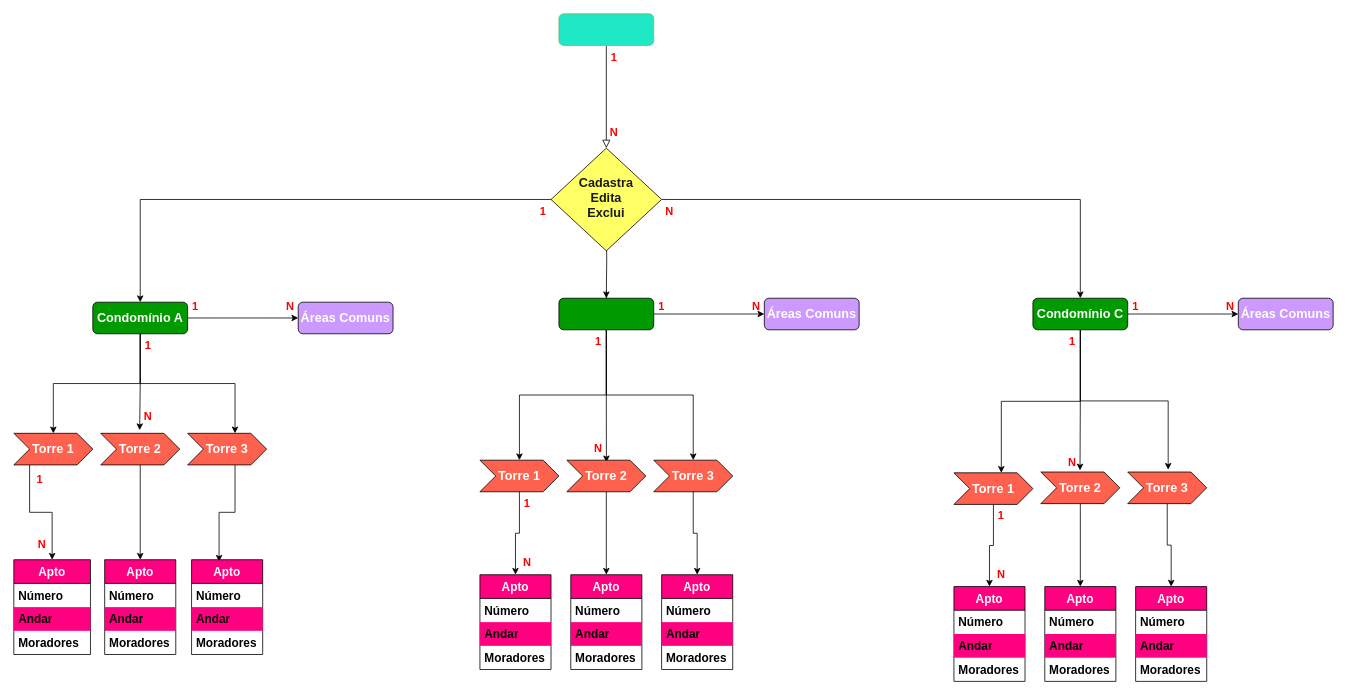
The diagram is 1347 pixels wide and 695 high, and some of its shapes have lost their labels. Each missing label, with the centre of its shape:
Condomínio B: (x=606, y=313)
User_ADM: (x=606, y=29)
